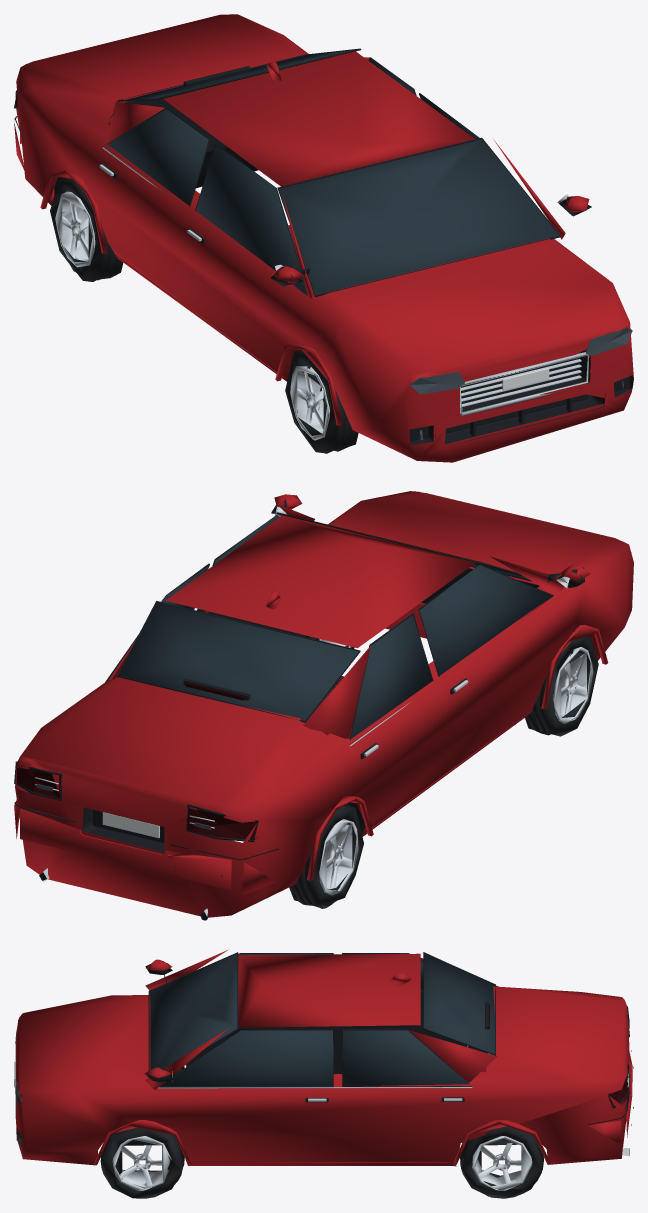
The model's file is car-sedan-red.glb.
3 renders of one model, top to bottom at view 1: azimuth 30°, elevation 25°; view 2: azimuth 150°, elevation 25°; view 3: azimuth 270°, elevation 25°, orthographic. The views are drawn at different scales.
Parts seen in each view (by area): view 1: Aerodynamic mirror painted cap, Front side door glass, Aerodynamic mirror lower housing, 107 reused Alloy_five_spoke_rim, 107 reused Sculpted_tyre, Clear reversing lens insert; view 2: Aerodynamic mirror painted cap, Front side door glass, Aerodynamic mirror lower housing, 107 reused Sculpted_tyre, 107 reused Alloy_five_spoke_rim, Flush corner wrapping ruby lamp lens, Front license plate; view 3: Aerodynamic mirror painted cap, Front side door glass, 107 reused Sculpted_tyre, Aerodynamic mirror lower housing, 107 reused Alloy_five_spoke_rim.
Boxes of the visible parts, <box> form: Aerodynamic mirror painted cap: <box>14,14,633,462</box>; Front side door glass: <box>107,50,559,295</box>; Aerodynamic mirror lower housing: <box>14,48,633,445</box>; 107 reused Alloy_five_spoke_rim: <box>55,147,589,440</box>; 107 reused Sculpted_tyre: <box>50,178,358,453</box>; Clear reversing lens insert: <box>410,327,632,439</box>; Aerodynamic mirror painted cap: <box>14,491,633,917</box>; Front side door glass: <box>109,514,552,738</box>; Aerodynamic mirror lower housing: <box>14,498,584,920</box>; 107 reused Sculpted_tyre: <box>289,635,598,908</box>; 107 reused Alloy_five_spoke_rim: <box>35,506,593,920</box>; Flush corner wrapping ruby lamp lens: <box>15,682,257,839</box>; Front license plate: <box>102,812,159,838</box>; Aerodynamic mirror painted cap: <box>15,950,632,1166</box>; Front side door glass: <box>149,953,494,1086</box>; 107 reused Sculpted_tyre: <box>100,1046,543,1198</box>; Aerodynamic mirror lower housing: <box>15,952,633,1155</box>; 107 reused Alloy_five_spoke_rim: <box>112,1053,629,1190</box>.
Size of the model in its own units: 7.12 by 5.06 by 15.87.
Materials: 8 (8 with a texture image).
